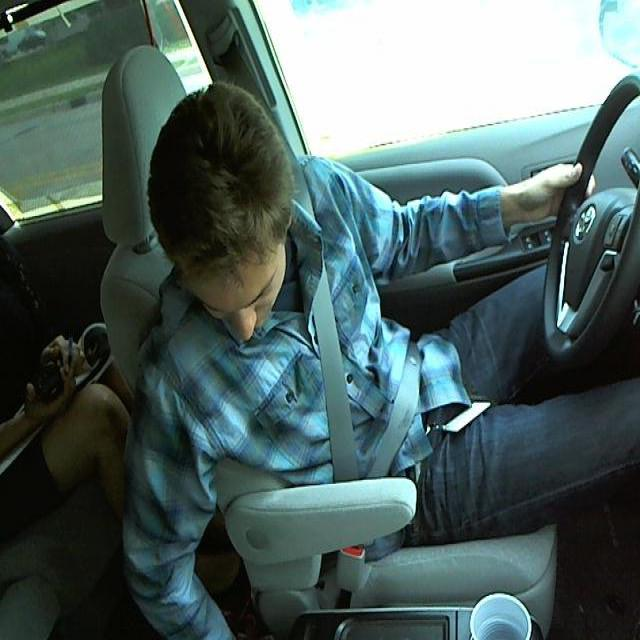seatbelt: (293, 216, 422, 471)
